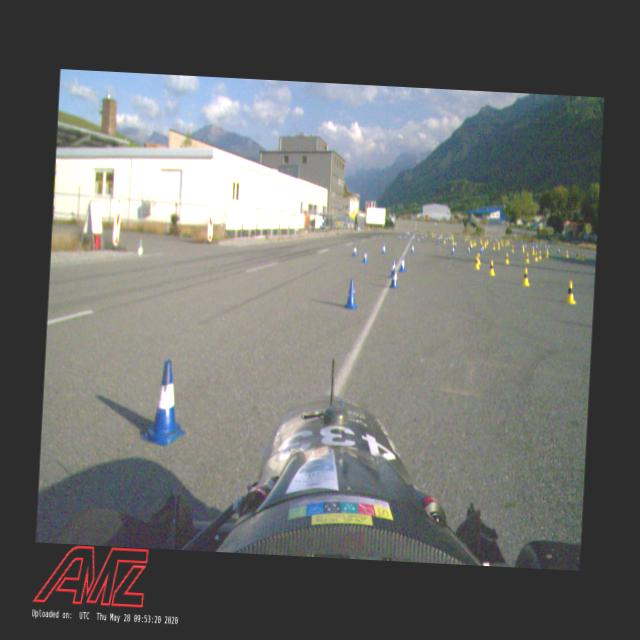blue_cone: (142, 356, 190, 446), (345, 278, 359, 310), (390, 268, 400, 290), (390, 260, 397, 278), (399, 255, 406, 272), (362, 249, 369, 263), (352, 244, 358, 256), (382, 243, 387, 256), (411, 244, 415, 254), (452, 246, 454, 255), (418, 236, 420, 244), (468, 246, 470, 253)
yellow_cone: (564, 279, 578, 306), (520, 266, 531, 286), (488, 260, 496, 276), (474, 256, 481, 270), (476, 252, 482, 266), (504, 252, 510, 264), (525, 252, 531, 264), (534, 251, 538, 262), (538, 250, 542, 260), (566, 250, 570, 259), (545, 250, 549, 259), (492, 242, 495, 250), (512, 244, 514, 253)
